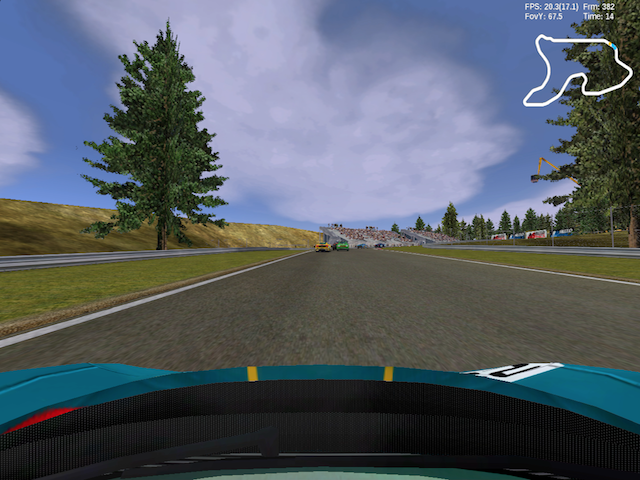Boxer96: (335, 243, 351, 252)
Cavallo360: (315, 243, 333, 252)
